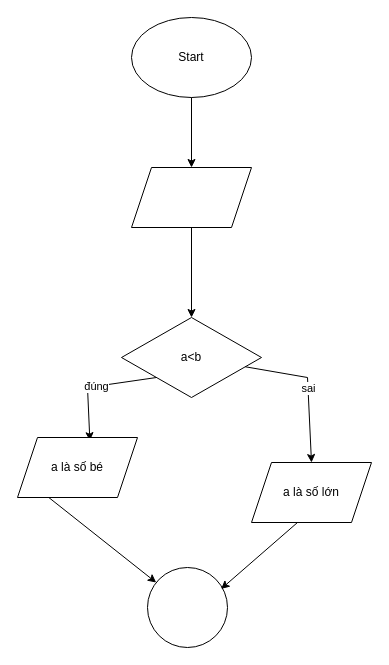
Some shapes in this 389 by 665 pixel diagram are drawn without their labels. The shapes that lost their labels are listed below. From the top down, each one's centre as x and y in pixels, then its label:
At pixel 191 197: "Nhập a,b".
At pixel 187 607: "End".
